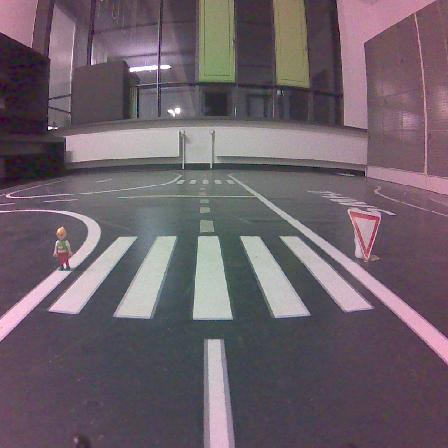CHILD: (53, 227, 72, 269)
GIVE_WAY: (347, 208, 380, 259)
